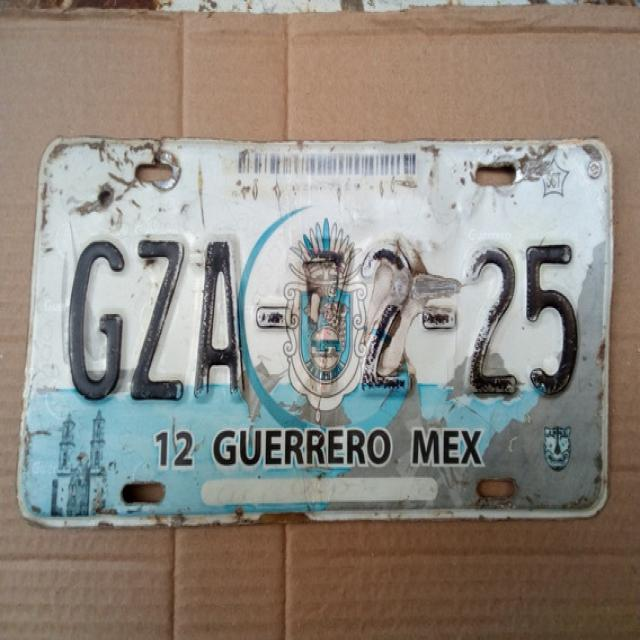placa: (35, 220, 609, 415)
